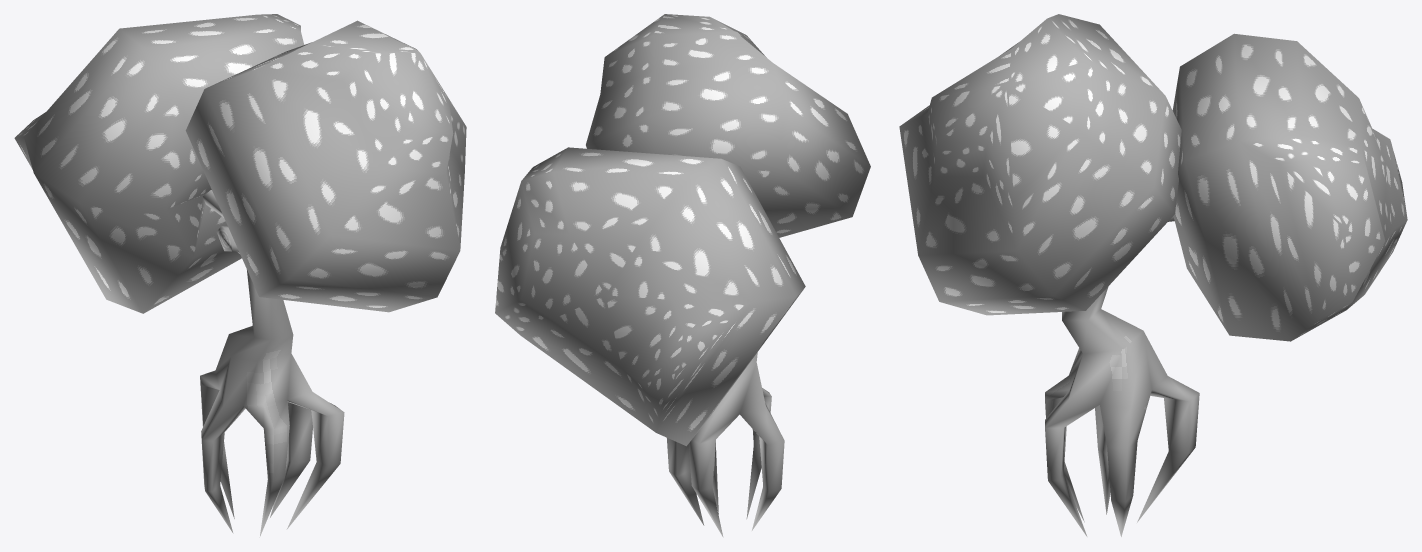
Rendered from Obstacle_Bush.FBX.
3 views of the same model, side by side, from view 1: azimuth 30°, elevation 25°; view 2: azimuth 150°, elevation 25°; view 3: azimuth 270°, elevation 25° (orthographic). The views are drawn at different scales.
Visible parts, largest first — view 1: Line01; view 2: Line01; view 3: Line01.
Boxes of the visible parts, left/top/right/bottom form: Line01: left=14, top=14, right=466, bottom=537; Line01: left=495, top=14, right=870, bottom=537; Line01: left=899, top=14, right=1407, bottom=536.
Bounding box in the file's own units: 126 × 193 × 171.
3 materials, 3 textured.
